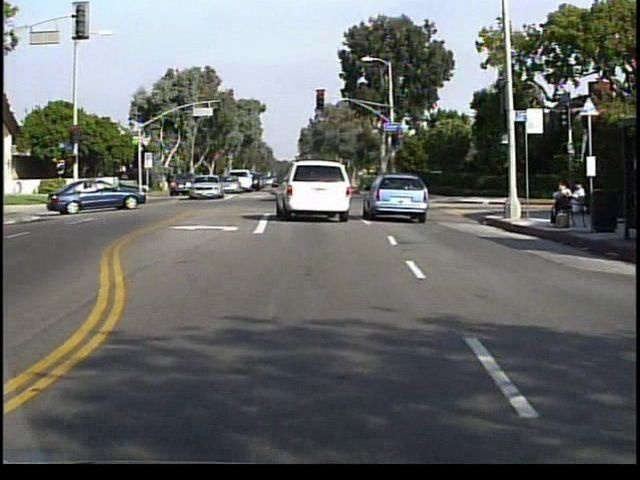person: (548, 179, 574, 229), (568, 179, 588, 228)
